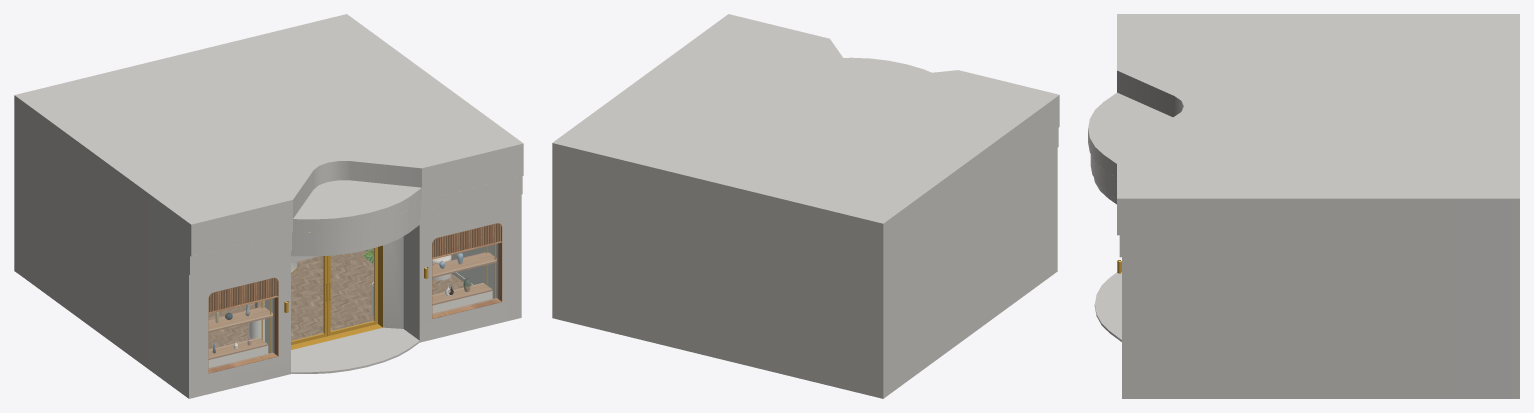
File: showroom.glb
3 views of the same model, side by side, from view 1: azimuth 30°, elevation 25°; view 2: azimuth 150°, elevation 25°; view 3: azimuth 270°, elevation 25° (orthographic). The views are drawn at different scales.
Visible parts, largest first — view 1: WuDing, QiangTi, BoLi, DaMenboli, DaMenboli.001, BoLiChuang, BoLiChuang.002, BoLiChuang.001, DaMenR, LuoDi, LuoDi2, GuaQiang.008 (+4 smaller); view 2: WuDing, QiangTi; view 3: WuDing, QiangTi.
Boxes of the visible parts, x1,y1,x2,y2 form: WuDing: [14, 14, 523, 280]; QiangTi: [14, 153, 521, 398]; BoLi: [209, 244, 497, 369]; DaMenboli: [331, 248, 374, 331]; DaMenboli.001: [291, 256, 323, 340]; BoLiChuang: [208, 223, 502, 373]; BoLiChuang.002: [208, 278, 277, 312]; BoLiChuang.001: [432, 223, 500, 257]; DaMenR: [327, 247, 377, 335]; LuoDi: [432, 252, 496, 277]; LuoDi2: [208, 307, 272, 332]; GuaQiang.008: [432, 283, 492, 305]; WuDing: [552, 14, 1059, 281]; QiangTi: [552, 154, 1057, 398]; WuDing: [1088, 14, 1519, 264]; QiangTi: [1094, 264, 1519, 398].
Bounding box in the file's own units: 9 × 4.55 × 8.89.
82 materials, 48 textured.
